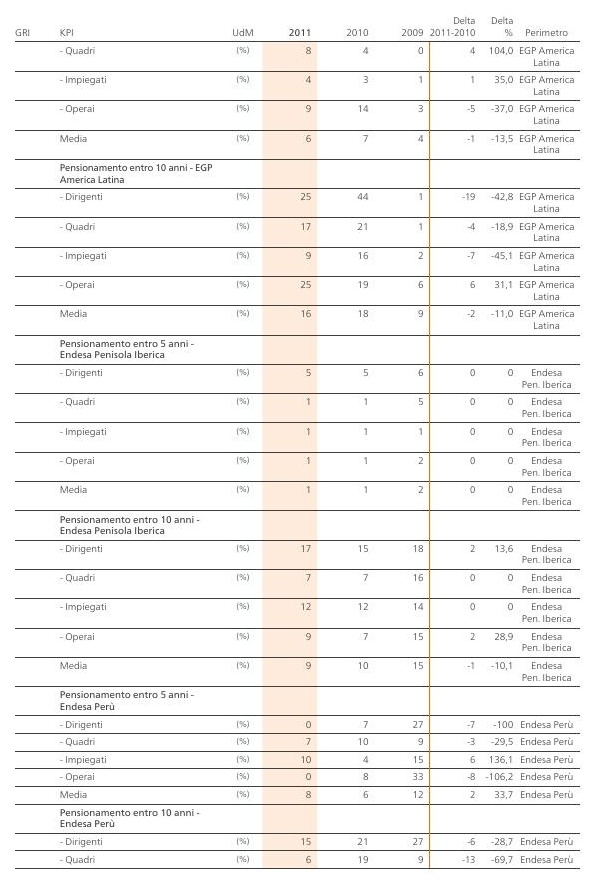table: (0, 0, 602, 888)
